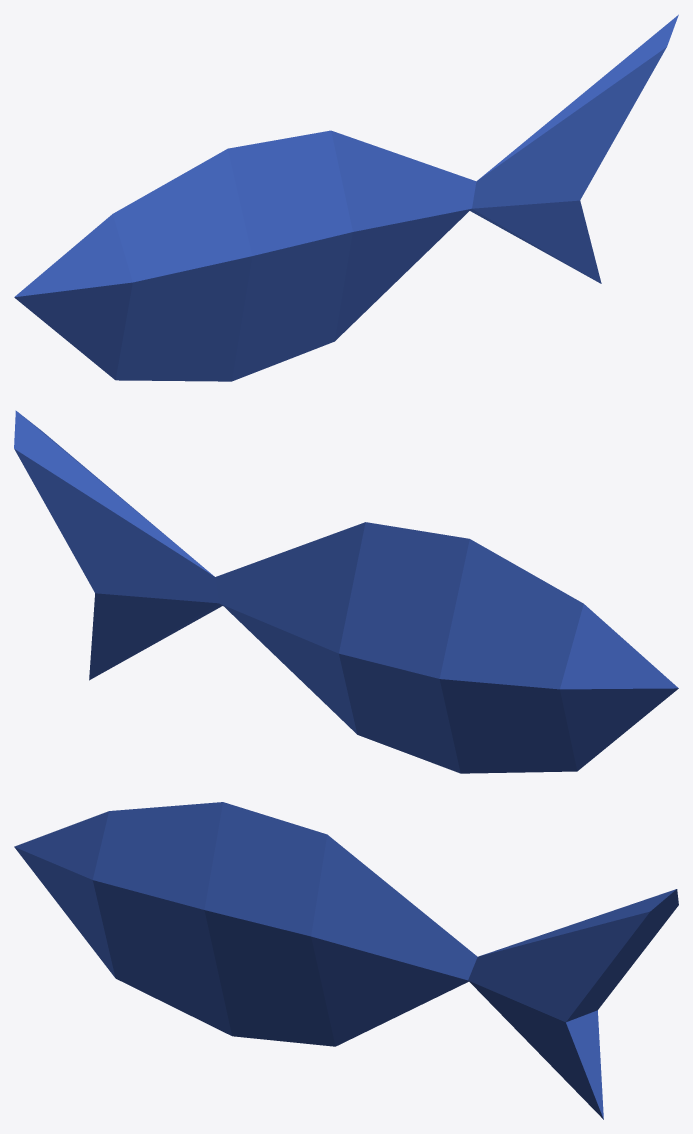
File: poisson.fbx
3 renders of one model, top to bottom at view 1: azimuth 30°, elevation 25°; view 2: azimuth 150°, elevation 25°; view 3: azimuth 330°, elevation 25°, orthographic.
Visible parts, largest first — view 1: poisson1; view 2: poisson1; view 3: poisson1.
Boxes of the visible parts, x1,y1,x2,y2 form: poisson1: (14, 14, 678, 381); poisson1: (14, 410, 678, 773); poisson1: (14, 802, 678, 1119).
Bounding box in the file's own units: 1.38 × 0.5091 × 0.1769.
